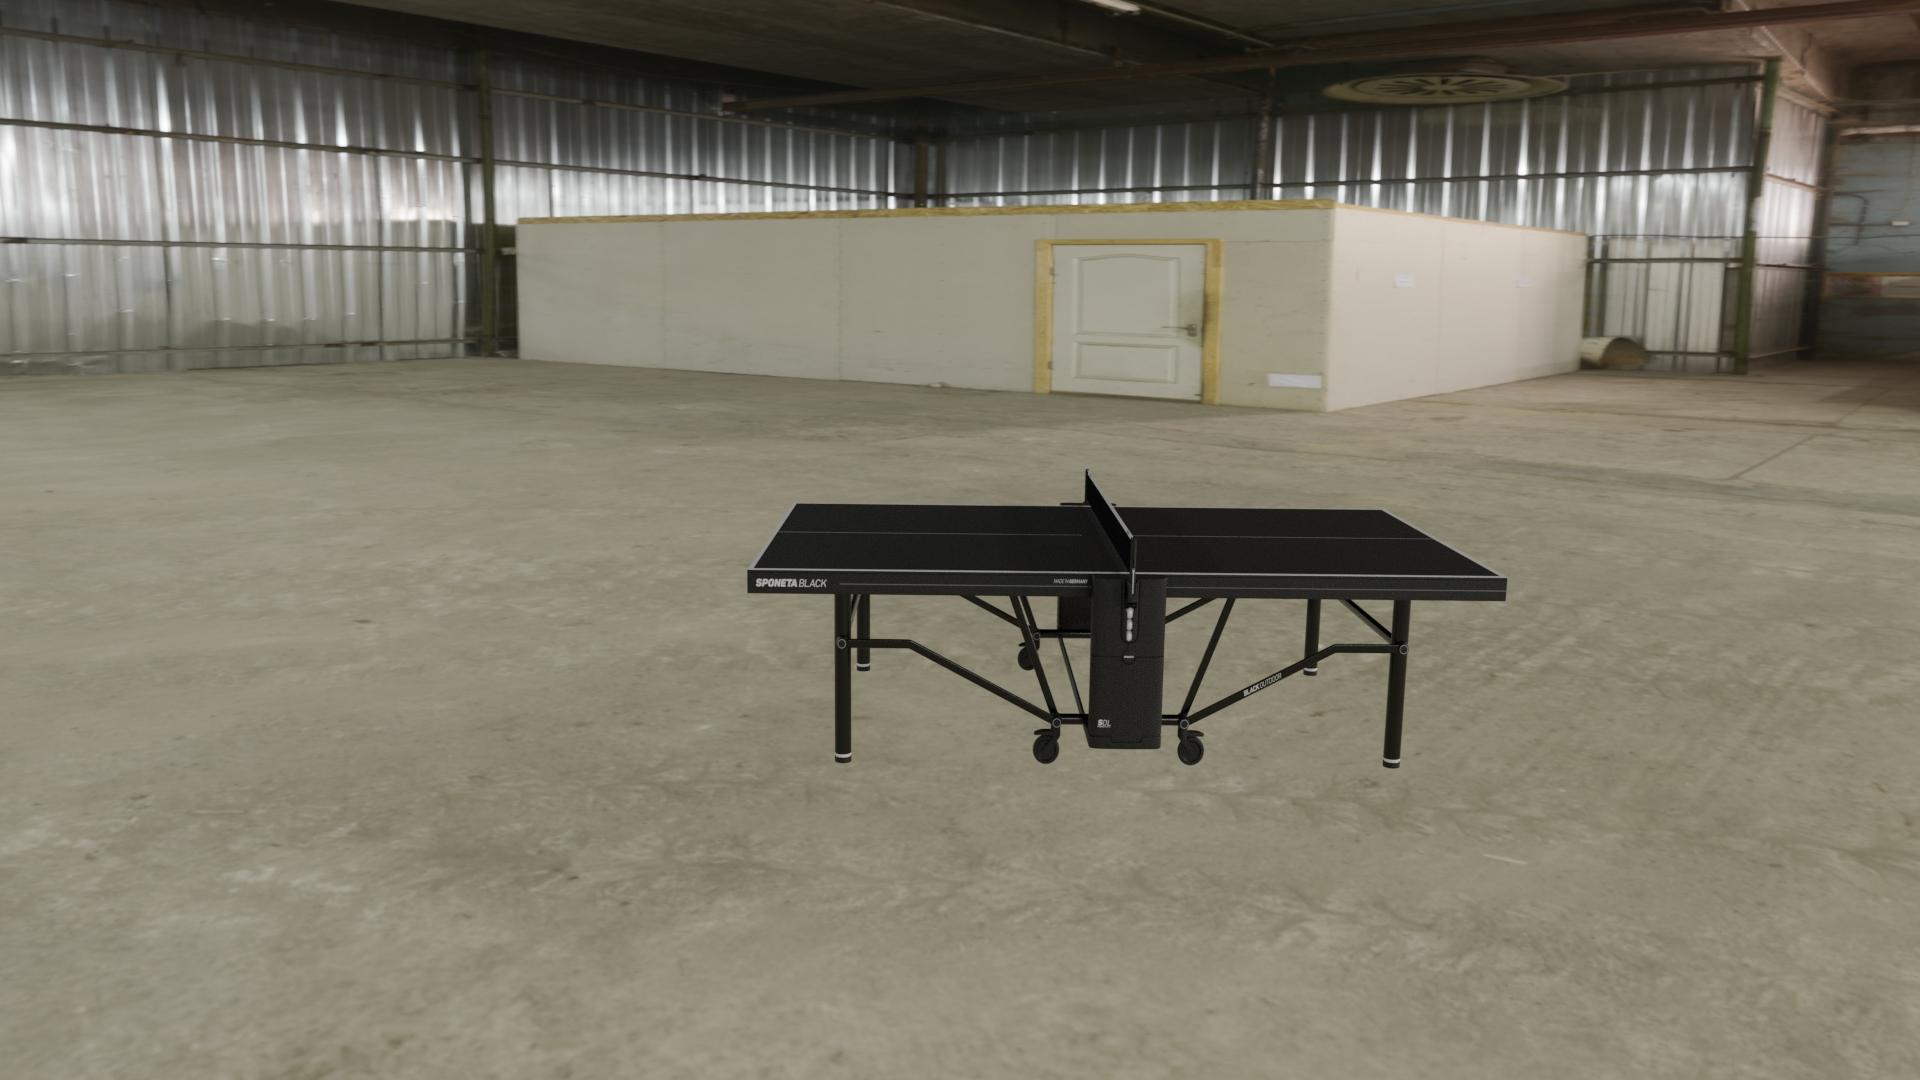table: (753, 504, 1501, 576)
